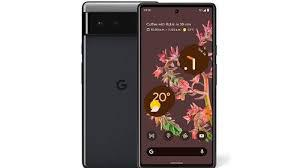Smartphone: (138, 2, 217, 168)
